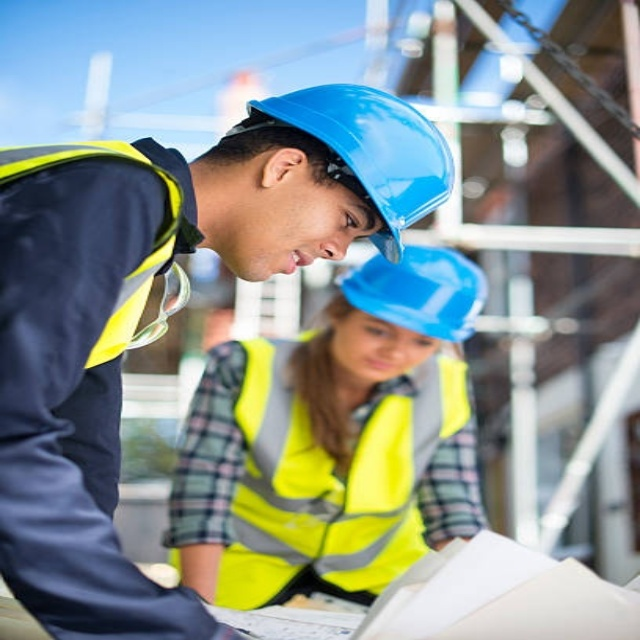Sin_gafas: (320, 187, 372, 242), (356, 319, 441, 352)
Sin_mascara: (242, 245, 325, 282), (351, 355, 411, 384)
